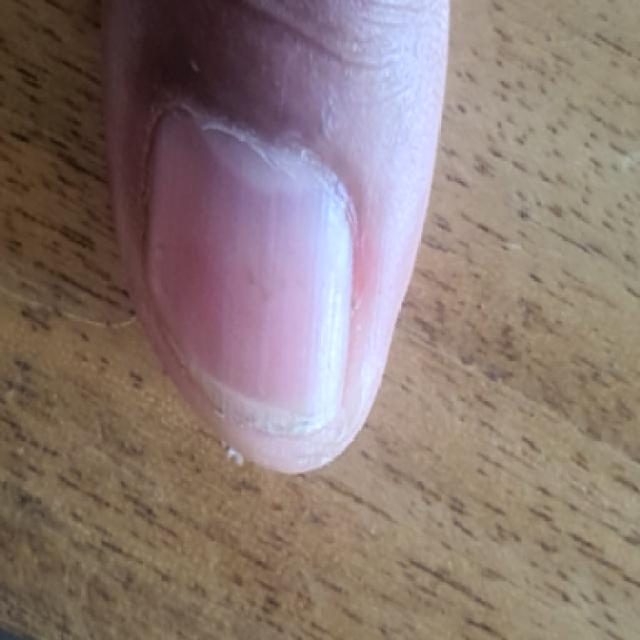Nail: (140, 109, 352, 421)
